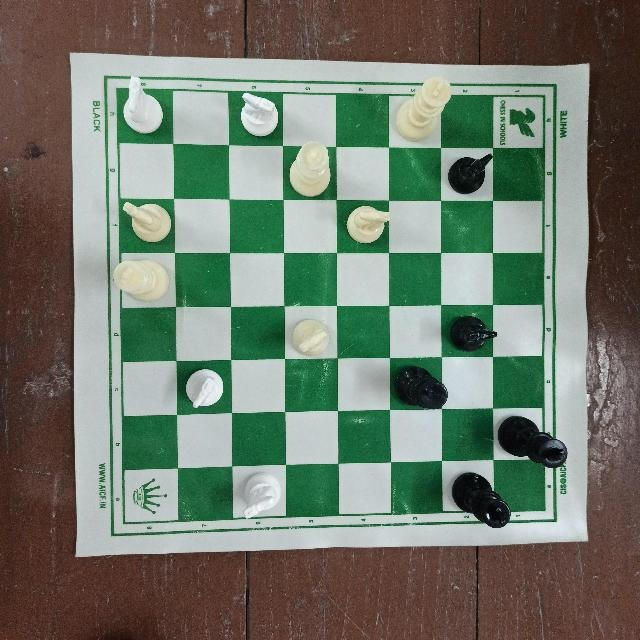black-king: (452, 463, 519, 531), (494, 418, 572, 474), (396, 362, 450, 412)
black-knight: (441, 144, 501, 195), (456, 307, 498, 350)
white-king: (393, 72, 456, 142), (108, 255, 178, 305)
white-knight: (117, 194, 177, 252), (112, 72, 162, 141), (286, 307, 341, 363), (234, 88, 286, 143), (176, 363, 230, 415), (339, 201, 391, 251), (233, 472, 281, 522)
white-queen: (288, 139, 336, 198)
